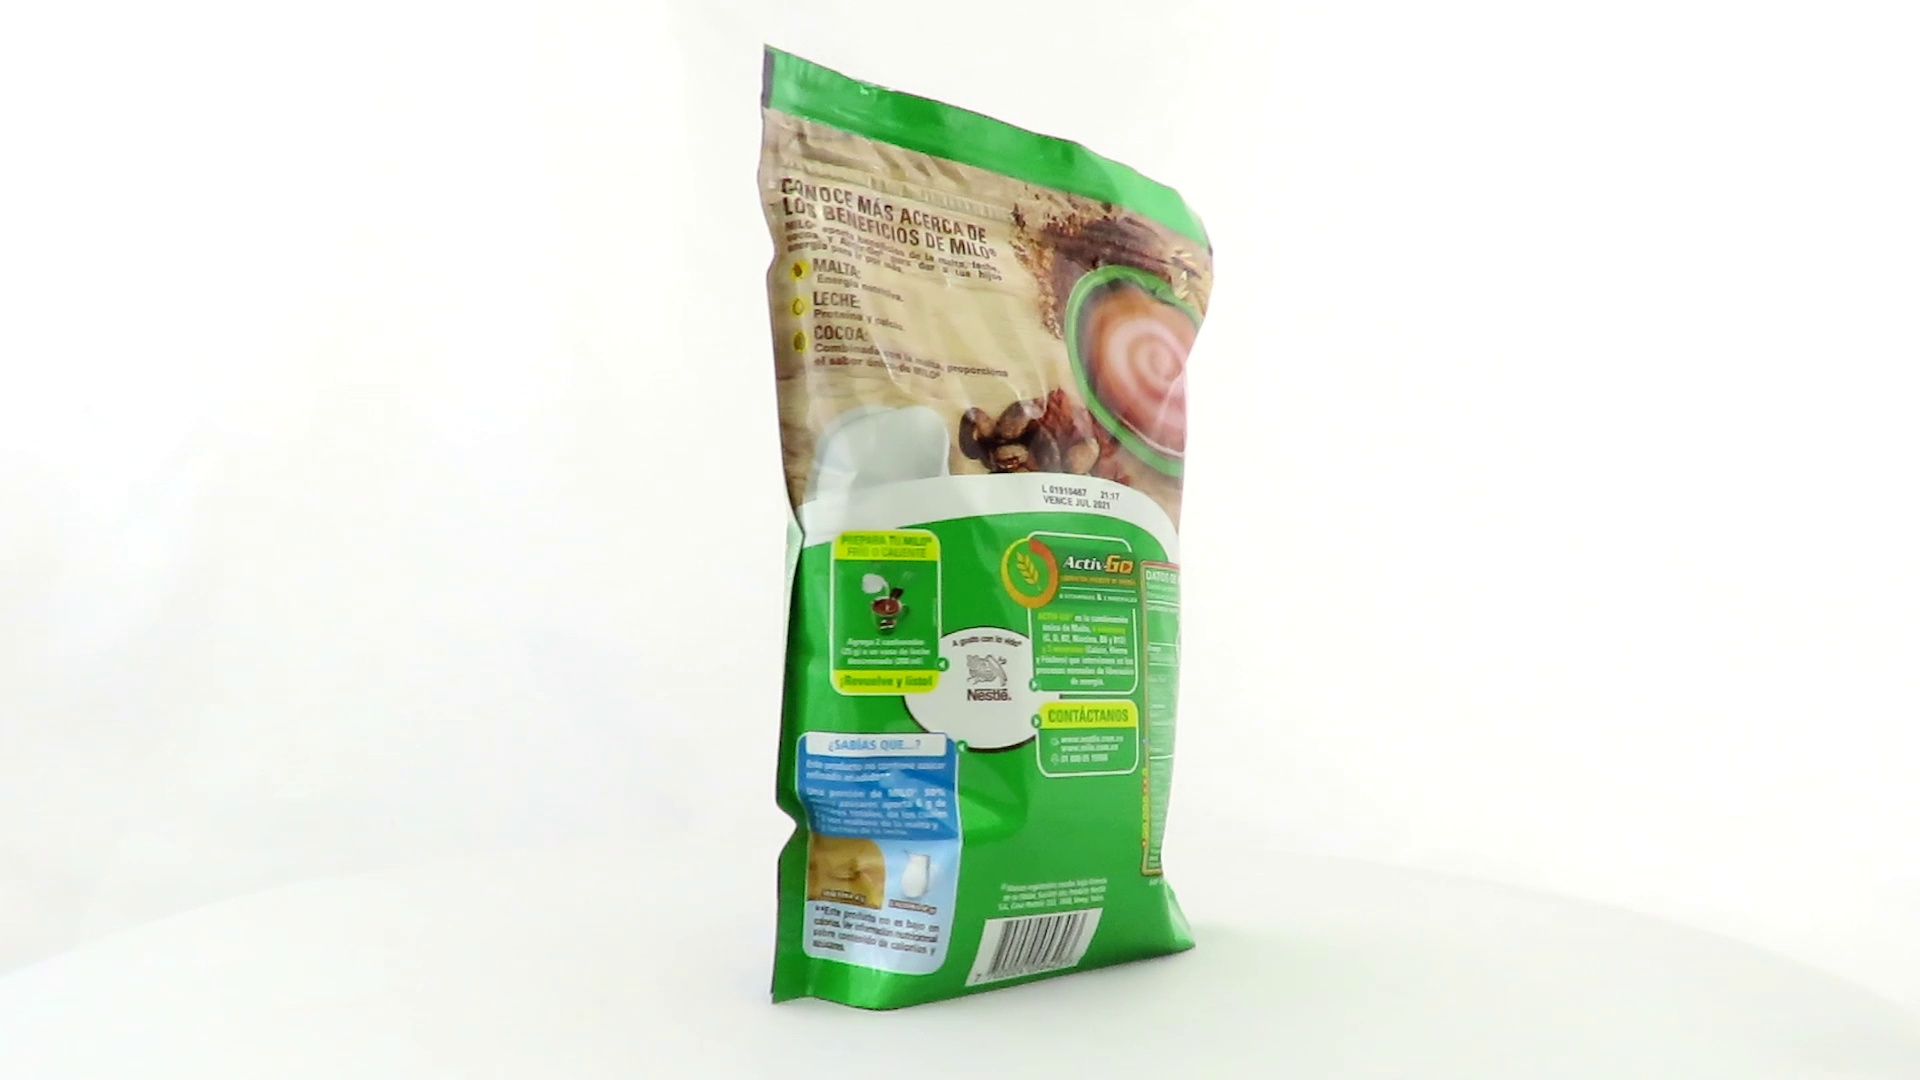COL0170205DYP50000: (752, 38, 1220, 1018)
